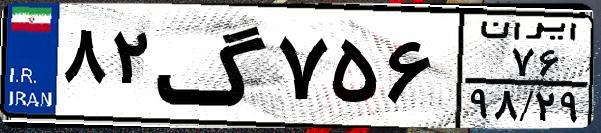2: (110, 28, 156, 98), (535, 70, 560, 125)
5: (330, 28, 385, 110)
6: (385, 28, 445, 110), (537, 27, 568, 80)
7: (270, 28, 330, 110), (508, 27, 537, 80)
8: (57, 26, 110, 100), (495, 70, 520, 125)
9: (560, 70, 590, 125), (470, 70, 495, 125)
گ: (156, 12, 270, 120)
